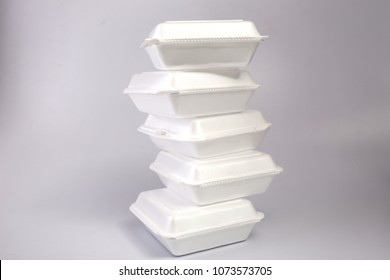Foam Box: (119, 13, 290, 259)
